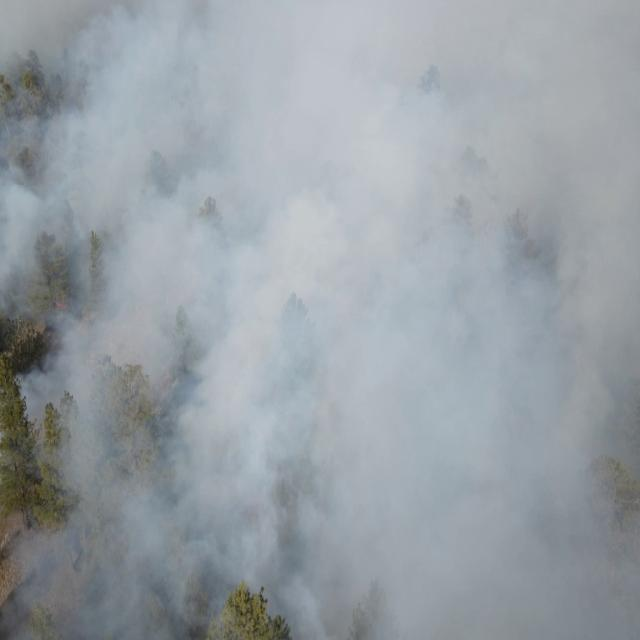fire: (51, 294, 70, 318)
smoke: (0, 0, 640, 640)
